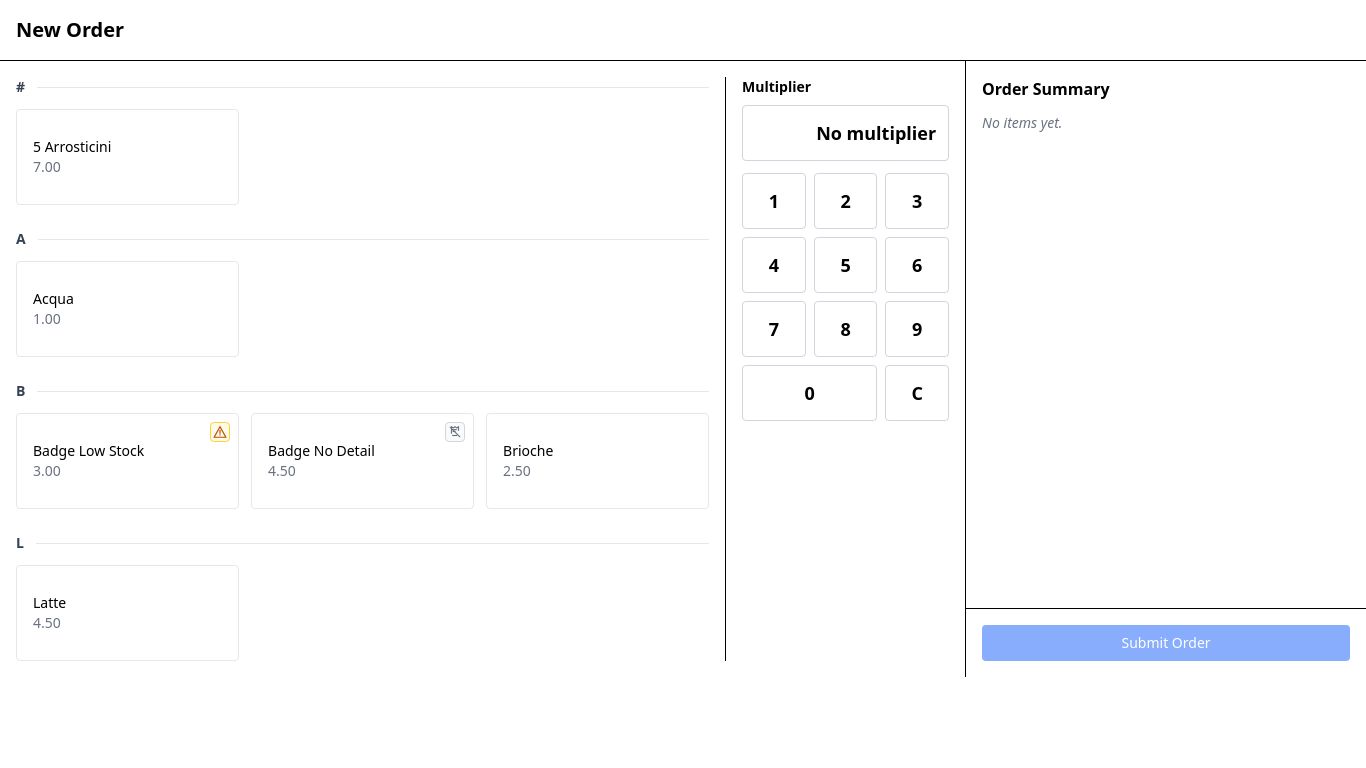
Test: Order › adds an article to the cart from a grouped section
The image size is (1366, 768).
Click the button "Acqua 1.00".
click(128, 309)  # box top-left (16, 261), bottom-right (239, 357)
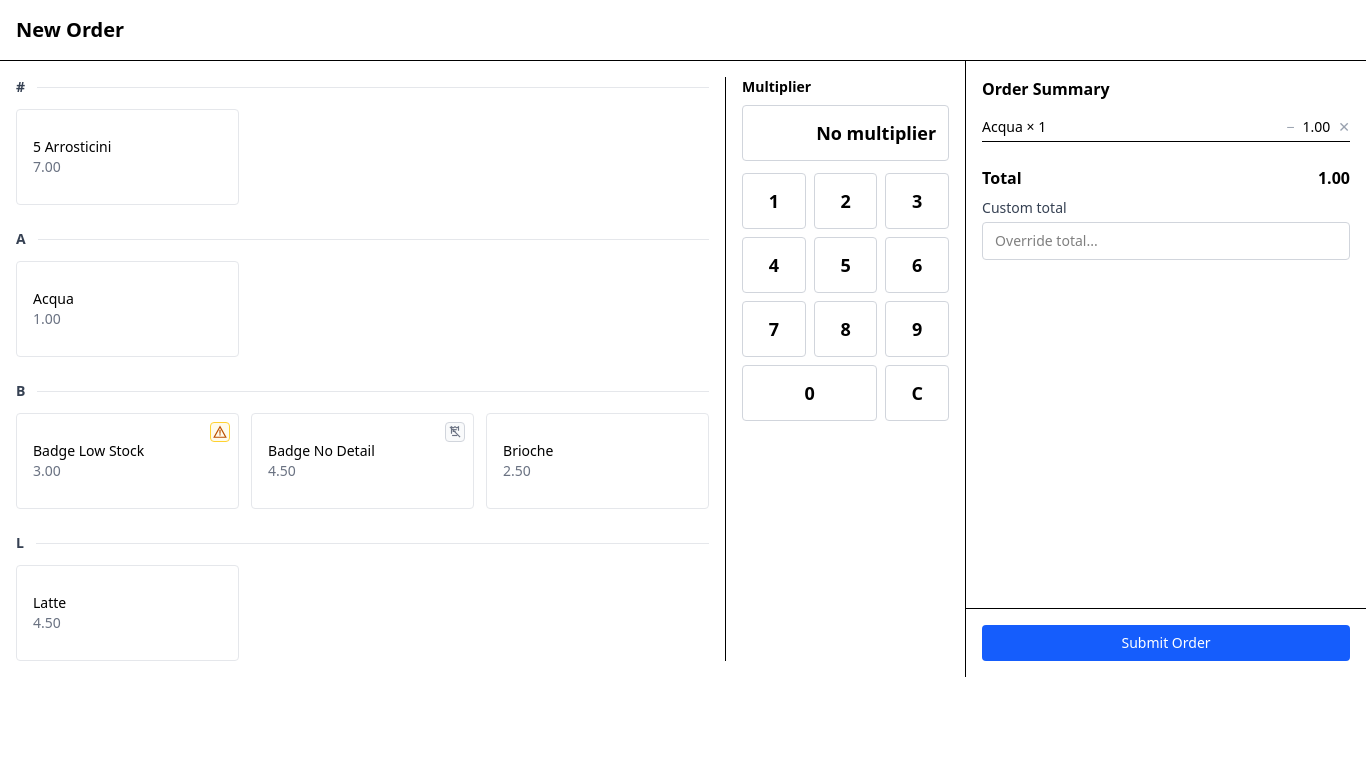
Check: the text "Acqua × 1" is shown, box top-left (982, 117), bottom-right (1046, 137)
